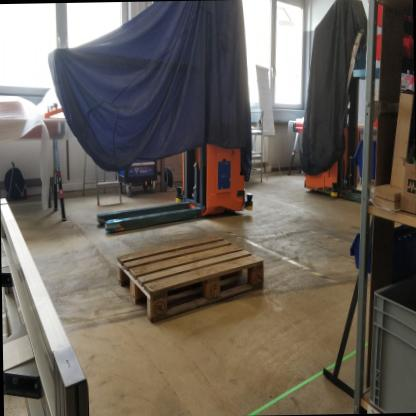BoxFace: (110, 230, 266, 328)
